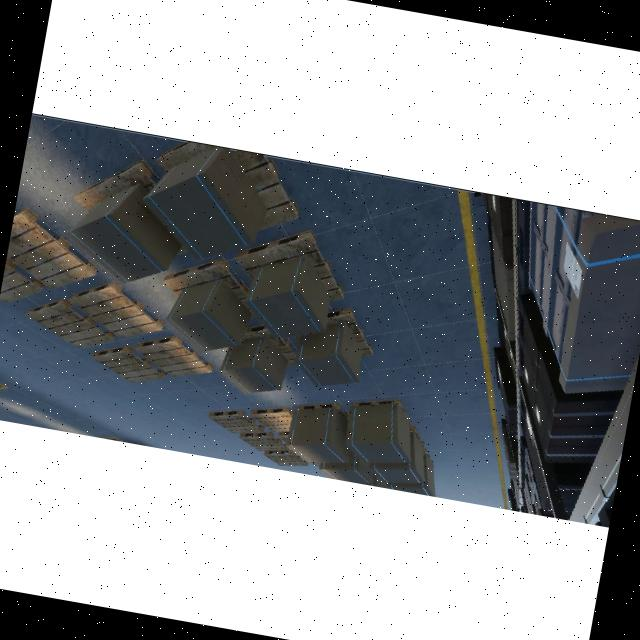wooden_pallet: (234, 229, 345, 300), (6, 208, 98, 291), (68, 281, 165, 339), (24, 298, 115, 349), (74, 159, 160, 211), (162, 258, 249, 305), (134, 335, 213, 377), (90, 345, 167, 383), (327, 307, 374, 355), (207, 410, 264, 433), (250, 407, 292, 433), (296, 403, 348, 423)
